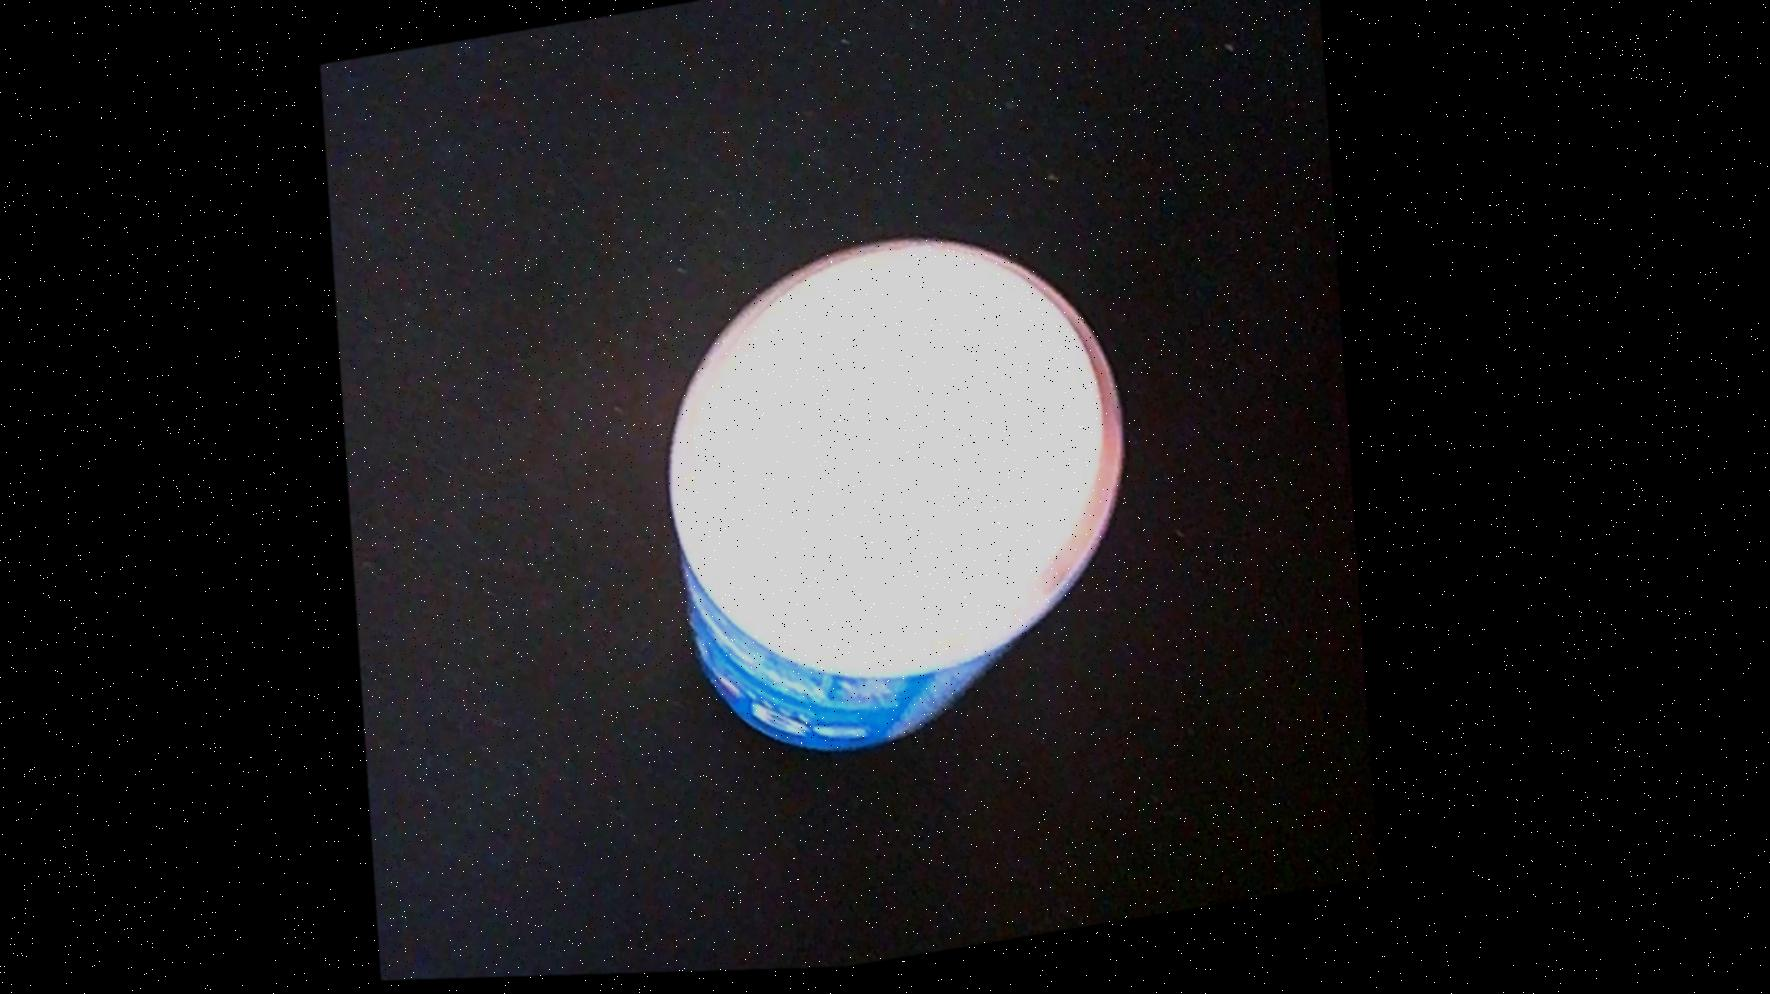letsbe: (626, 205, 1186, 789)
